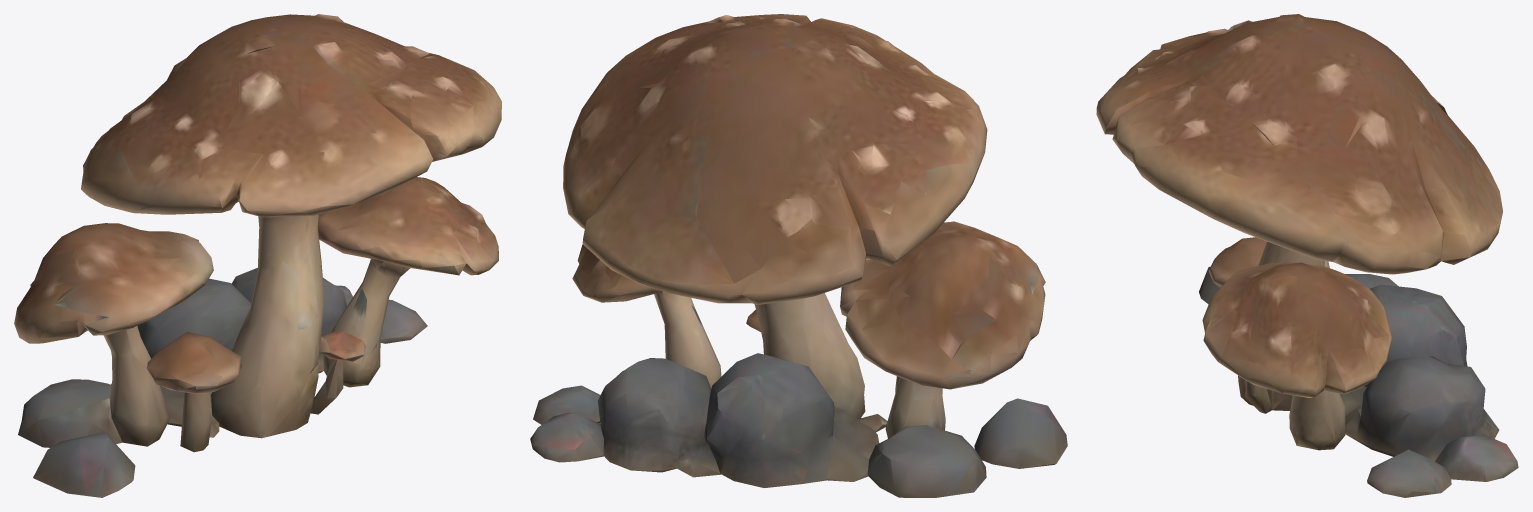
The model's file is setas_marrones_3000.glb.
3 views of the same model, side by side, from view 1: azimuth 30°, elevation 25°; view 2: azimuth 150°, elevation 25°; view 3: azimuth 270°, elevation 25° (orthographic).
Visible parts, largest first — view 1: setas_marrones_malla; view 2: setas_marrones_malla; view 3: setas_marrones_malla.
Part boxes in pixels (bbox=[...]): setas_marrones_malla: bbox=[14, 14, 501, 497]; setas_marrones_malla: bbox=[530, 14, 1067, 497]; setas_marrones_malla: bbox=[1096, 14, 1518, 497].
Size of the model in its own units: 0.2536 by 0.1949 by 0.198.
1 material, 1 textured.
